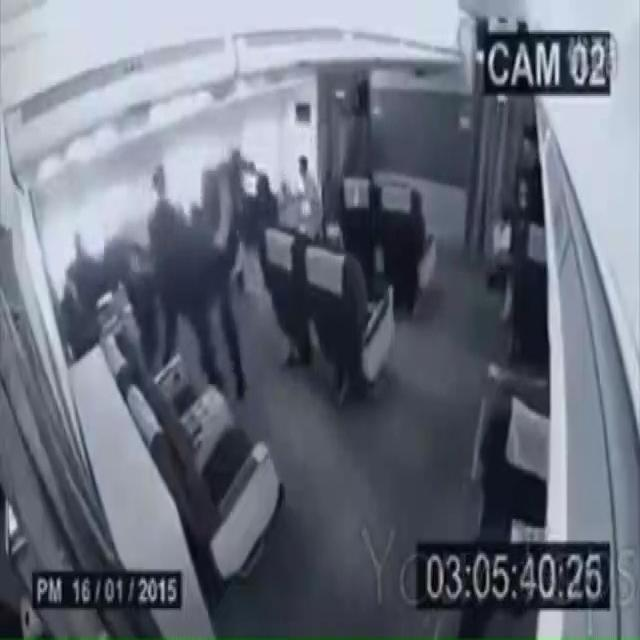fight: (122, 157, 269, 376)
